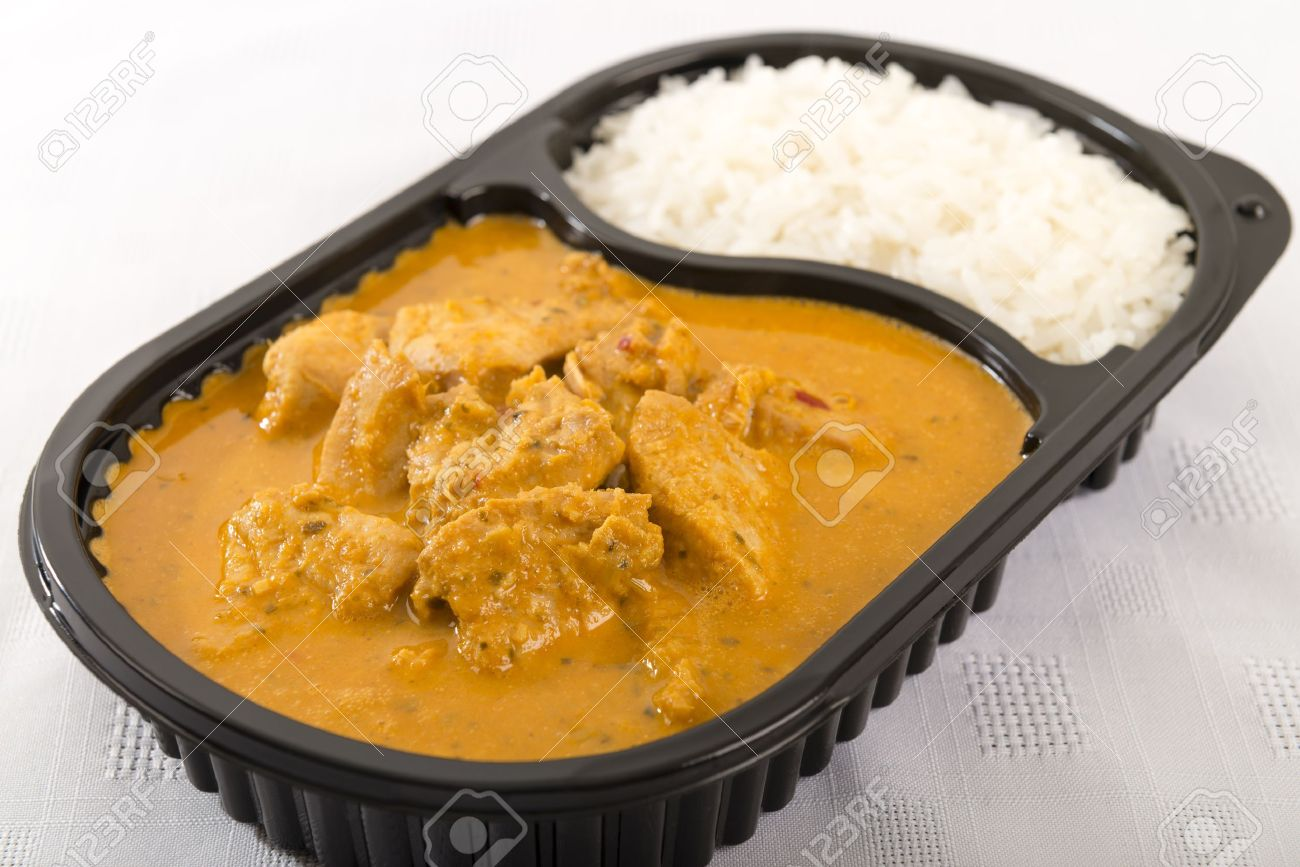plain rice: (665, 78, 1121, 291)
